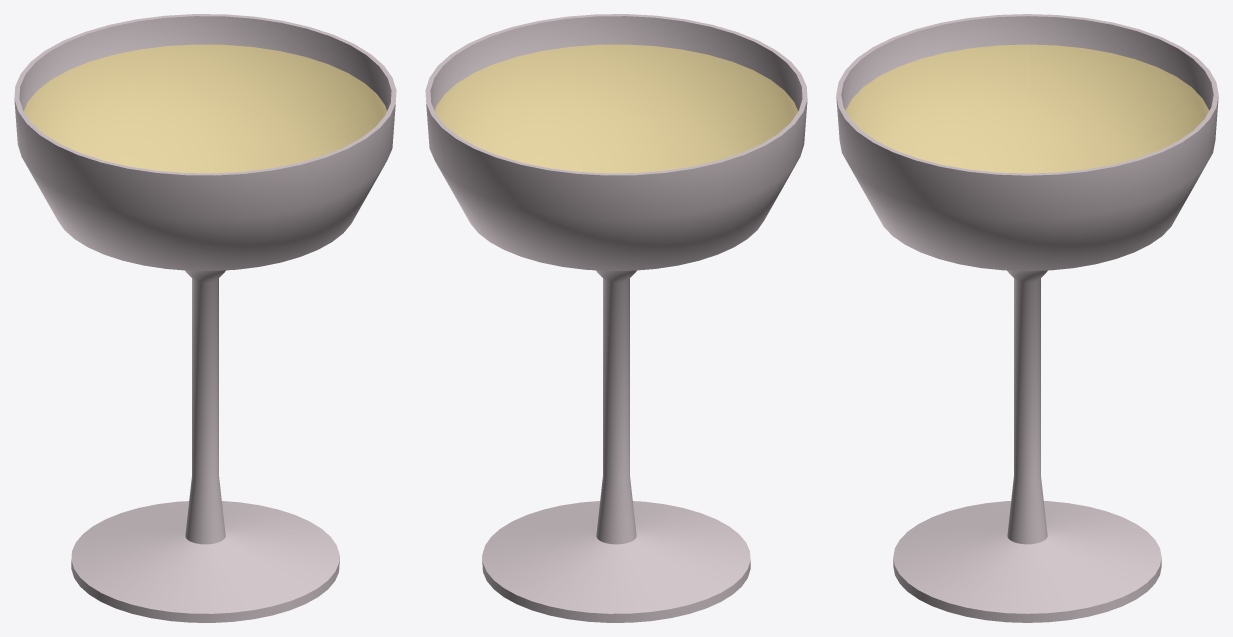
File: JAC_23_Taca_Coupe.glb
The picture shows the model from 3 angles, left to right: view 1: azimuth 30°, elevation 25°; view 2: azimuth 150°, elevation 25°; view 3: azimuth 270°, elevation 25°; orthographic projection.
Parts seen in each view (by area): view 1: JAC_23_Taca_Coupe; view 2: JAC_23_Taca_Coupe; view 3: JAC_23_Taca_Coupe.
Boxes of the visible parts, x1,y1,x2,y2 form: JAC_23_Taca_Coupe: (14,14,396,622); JAC_23_Taca_Coupe: (425,14,807,622); JAC_23_Taca_Coupe: (836,14,1218,622).
Size of the model in its own units: 0.114 by 0.155 by 0.114.
